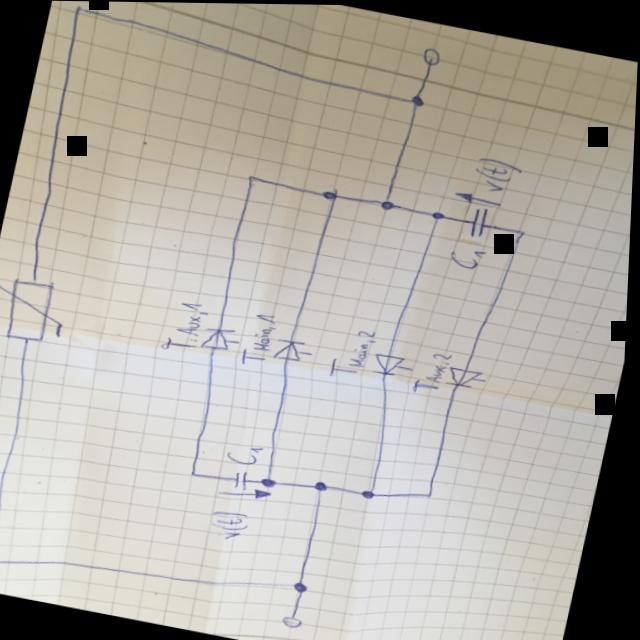capacitor: (467, 202, 492, 238), (232, 467, 255, 490)
junction: (262, 471, 284, 488), (294, 577, 315, 594), (321, 184, 342, 201), (379, 195, 400, 211), (408, 91, 427, 107), (362, 485, 383, 499), (315, 476, 333, 492), (69, 1, 87, 15), (431, 207, 448, 220), (189, 466, 204, 478), (516, 225, 531, 236), (245, 170, 259, 181), (428, 489, 439, 497), (0, 556, 5, 566)
terminal: (418, 43, 442, 66), (284, 610, 309, 628)
text: (329, 321, 382, 382), (161, 296, 213, 355), (469, 151, 526, 196), (241, 308, 282, 367), (412, 346, 456, 395), (211, 506, 257, 543), (226, 438, 268, 467), (448, 242, 490, 270)
thyristor: (200, 321, 241, 352), (445, 362, 488, 389), (273, 334, 311, 363), (372, 349, 411, 377)
